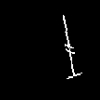treble_crochet: (63, 15, 79, 78)
